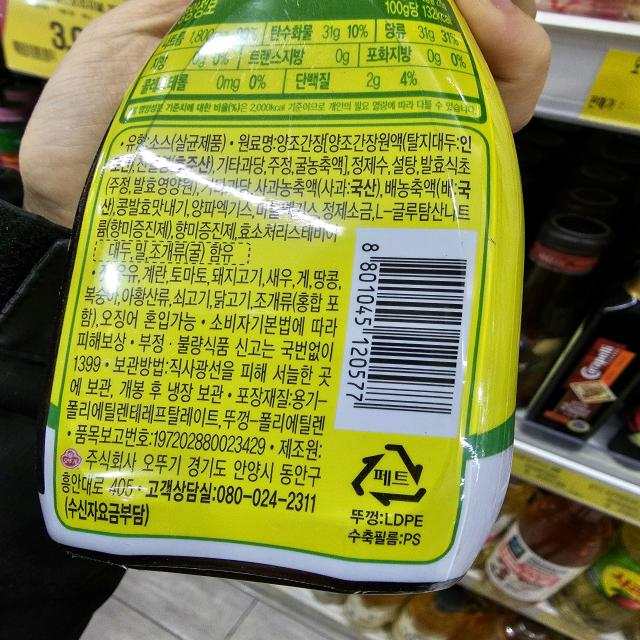PET: (346, 440, 434, 507)
